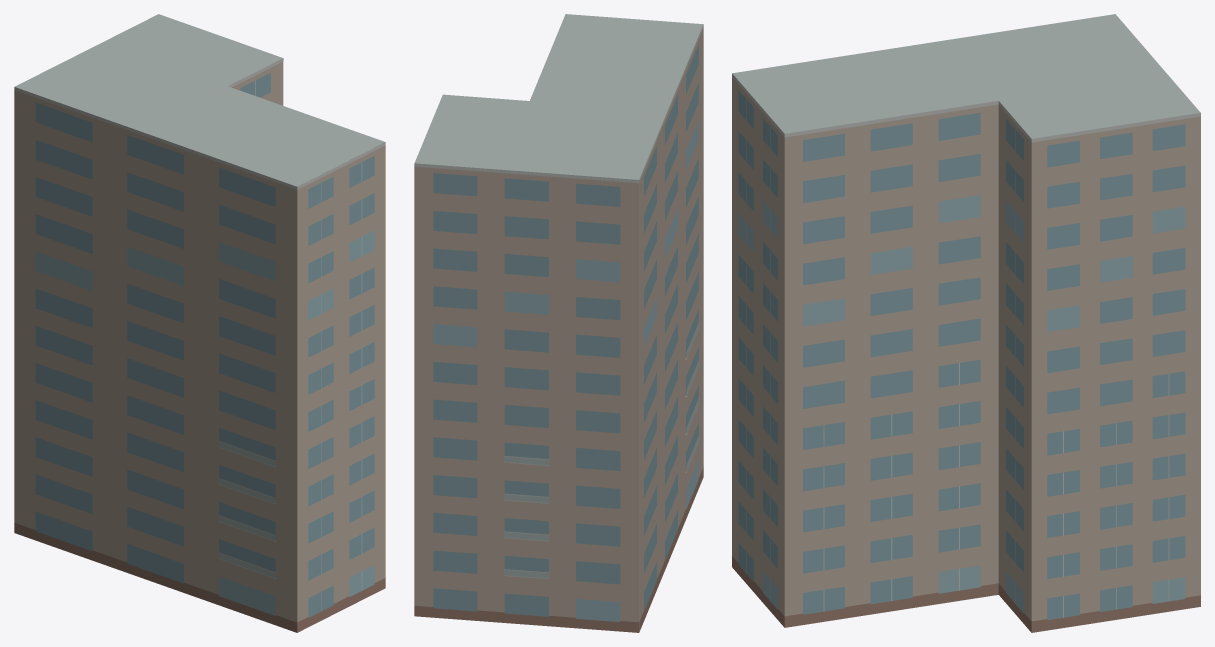
Rendered from residential-6f4b2481-6cbd-495f-892e-3315e667fb83.glb.
3 renders of one model, left to right at view 1: azimuth 30°, elevation 25°; view 2: azimuth 150°, elevation 25°; view 3: azimuth 270°, elevation 25°, orthographic. The views are drawn at different scales.
Visible parts, largest first — view 1: residential-6f4b2481-6cbd-495f-892e-3315e667fb83.tmp; view 2: residential-6f4b2481-6cbd-495f-892e-3315e667fb83.tmp; view 3: residential-6f4b2481-6cbd-495f-892e-3315e667fb83.tmp.
Part boxes in pixels (x1,y1,x2,y2): residential-6f4b2481-6cbd-495f-892e-3315e667fb83.tmp: (14,14,385,632); residential-6f4b2481-6cbd-495f-892e-3315e667fb83.tmp: (414,14,703,632); residential-6f4b2481-6cbd-495f-892e-3315e667fb83.tmp: (732,14,1200,632).
Bounding box in the file's own units: 17.91 × 33 × 28.39.
